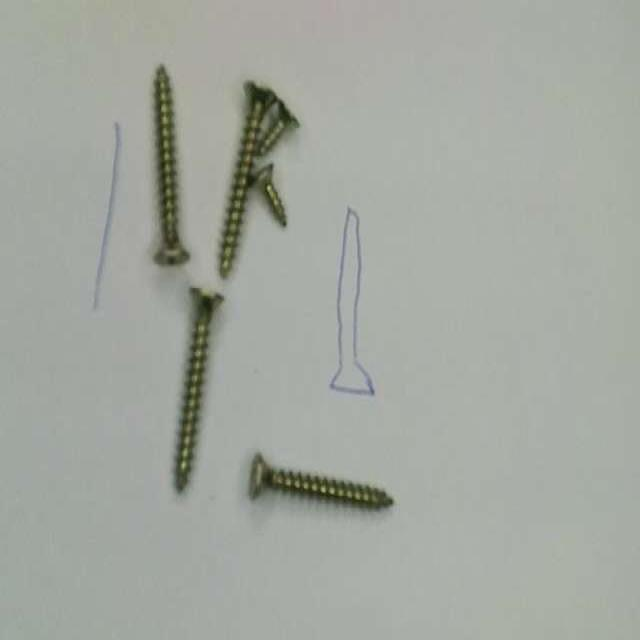Parafuso: (219, 83, 275, 277), (175, 288, 223, 491), (250, 453, 393, 508), (154, 65, 189, 264), (259, 100, 298, 156), (250, 165, 285, 225)
